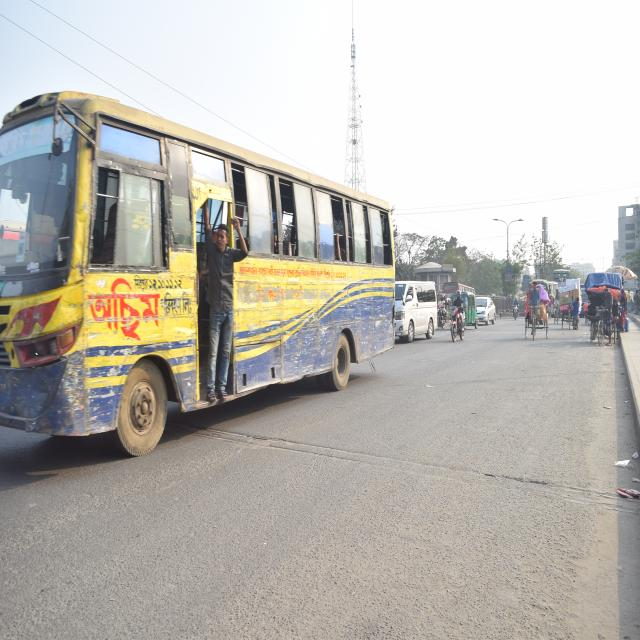bus: (0, 84, 397, 478)
car: (474, 292, 498, 326)
microbus: (396, 276, 438, 356)
motorbike: (449, 298, 466, 348), (435, 291, 448, 334), (510, 298, 520, 325)
